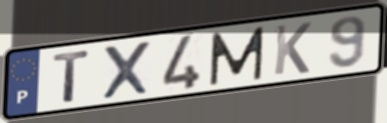4: (159, 32, 204, 92)
9: (326, 15, 368, 70)
K: (271, 20, 314, 77)
M: (208, 25, 267, 88)
T: (51, 48, 93, 105)
X: (100, 38, 153, 102)
